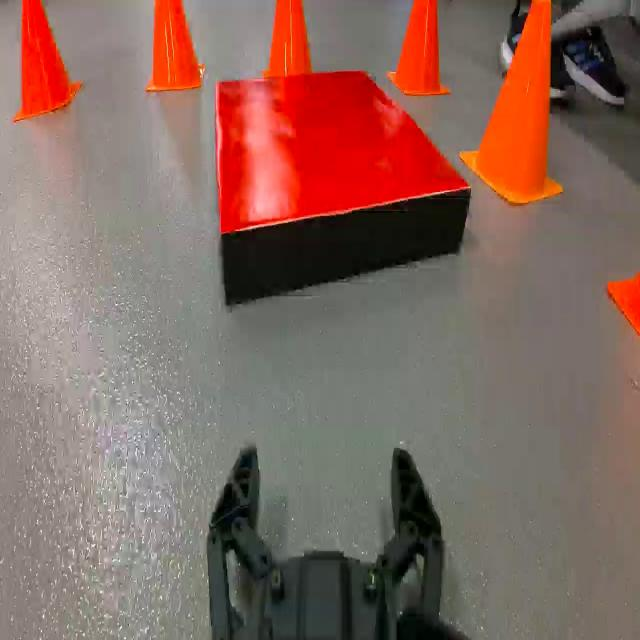cone: (459, 0, 562, 208), (15, 0, 84, 125), (386, 0, 450, 98), (145, 0, 206, 93), (264, 0, 311, 80), (605, 272, 640, 334)
red: (215, 70, 468, 307)
